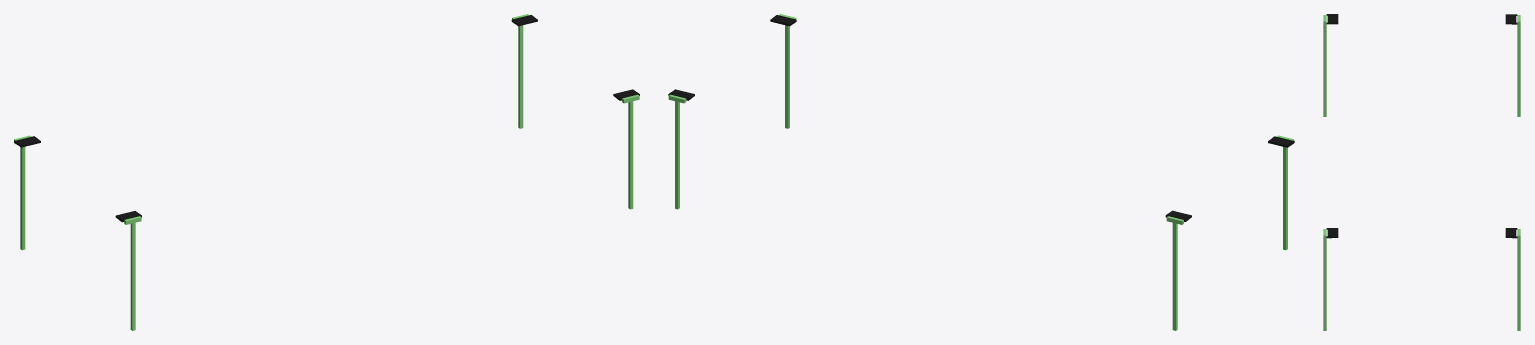
File: solo_2.glb
3 views of the same model, side by side, from view 1: azimuth 30°, elevation 25°; view 2: azimuth 150°, elevation 25°; view 3: azimuth 270°, elevation 25° (orthographic). The views are drawn at different scales.
Parts seen in each view (by area): view 1: 2 вариант; view 2: 2 вариант; view 3: 2 вариант.
Part boxes in pixels (bbox=[...]): 2 вариант: bbox=[14, 14, 639, 330]; 2 вариант: bbox=[668, 14, 1294, 330]; 2 вариант: bbox=[1323, 14, 1520, 330].
Size of the model in its own units: 16.49 by 3.39 by 6.18.
